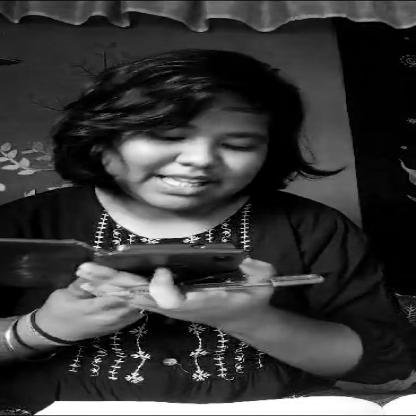Normal: (93, 74, 292, 216)
